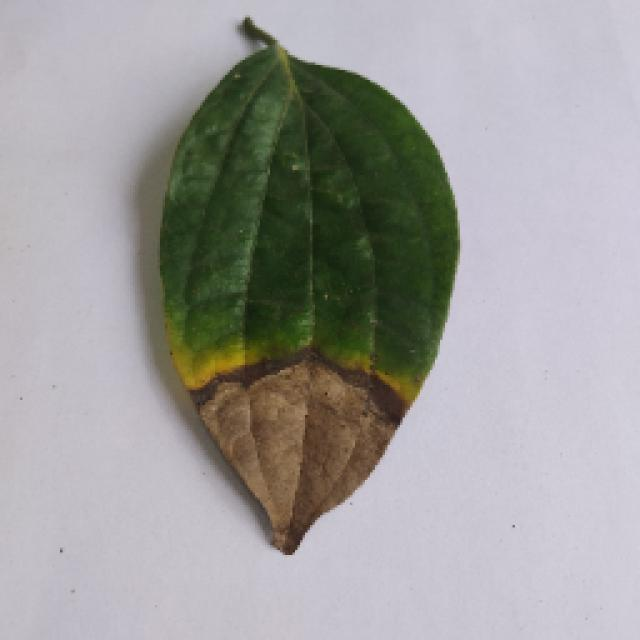footrot: (152, 23, 462, 555)
